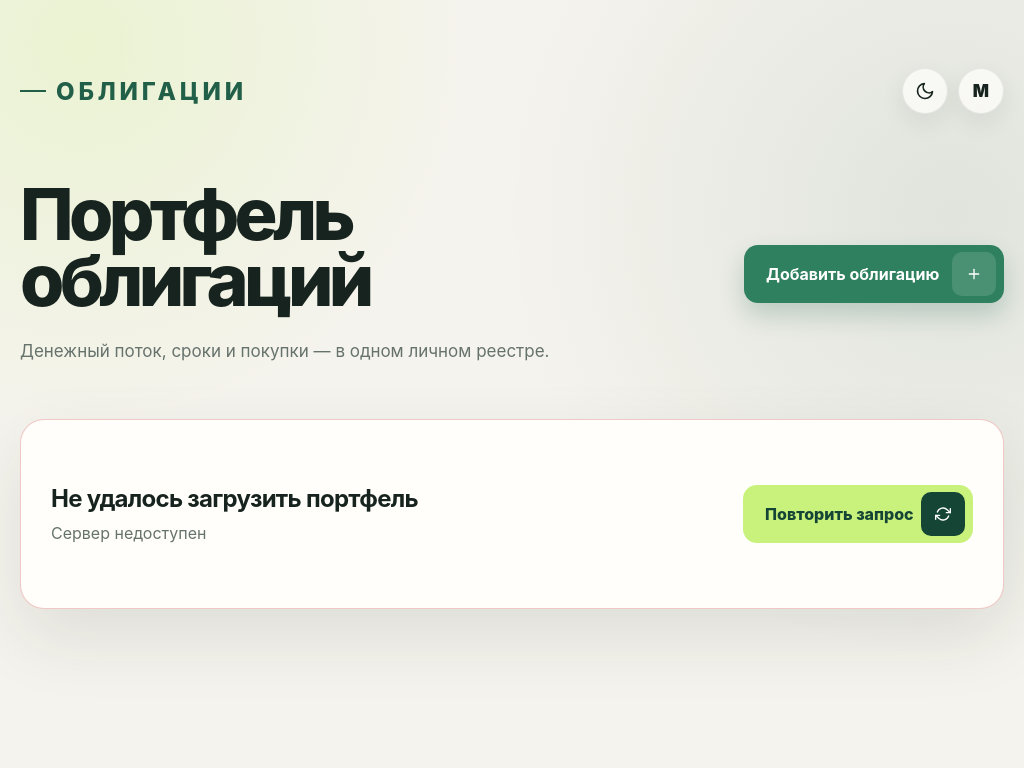
PortfolioPage › offers an actionable retry and then renders the compact empty state
Check: the message shows "Сервер недоступен", box [51,523,206,543]
Click the button "Повторить запрос" at (858, 514), box [743,485,973,543]
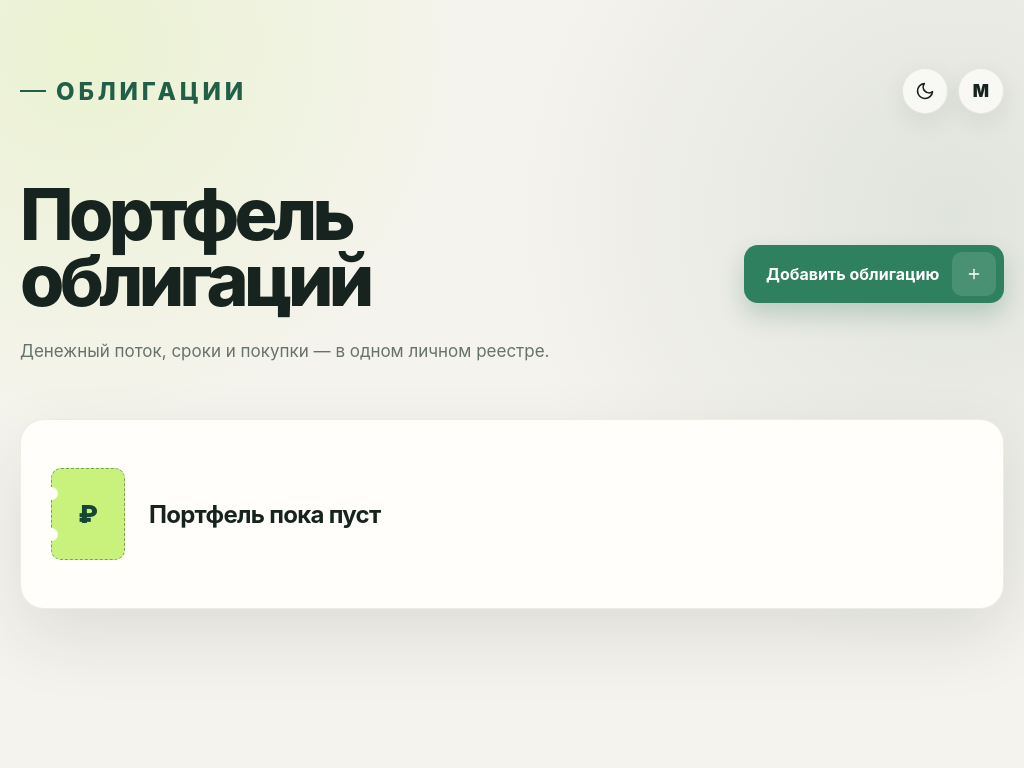
Check: the number of buttons "Добавить облигацию" is 1, box [744,244,1004,302]
Check: the heading "Портфель пока пуст" is shown, box [149,500,380,529]
